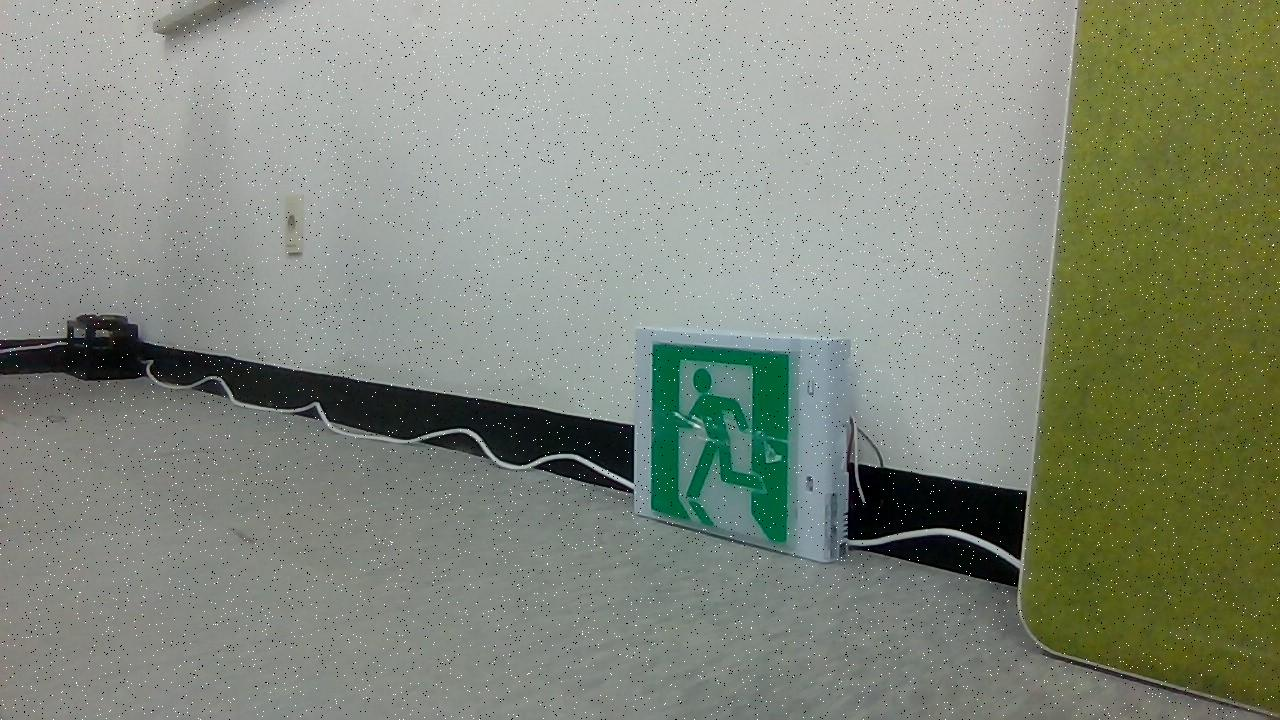emergency_exit: (632, 326, 851, 564)
